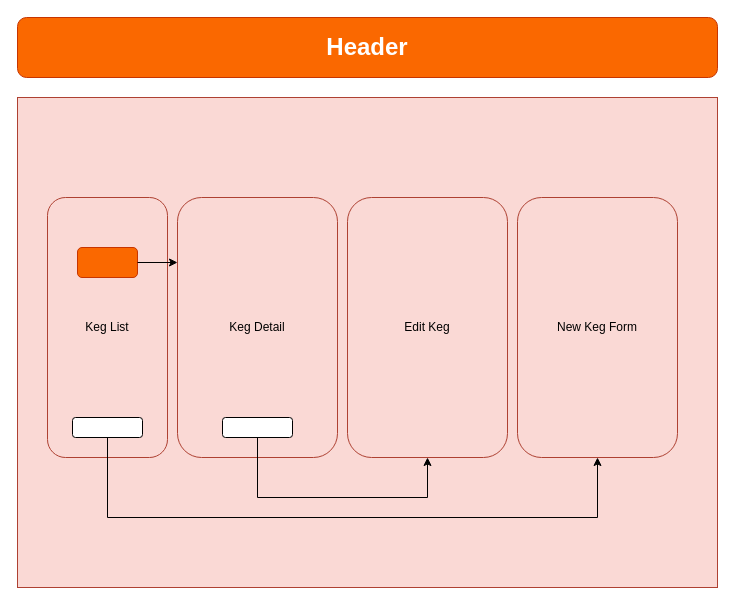
This 735x605 diagram has some shape labels left out. The centre of each missing label's shape, as x and y in pixels:
Add: (x=107, y=427)
Edit: (x=257, y=427)
Keg 1: (x=107, y=262)
